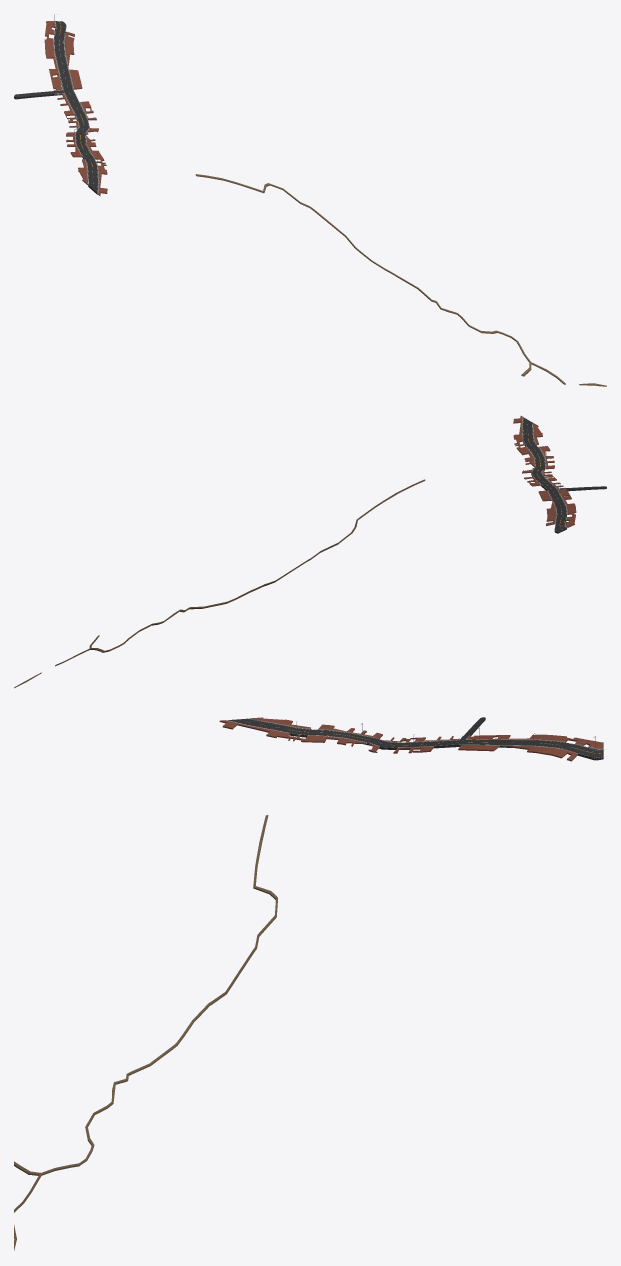
The picture shows the model from 3 angles, top to bottom: view 1: azimuth 30°, elevation 25°; view 2: azimuth 210°, elevation 25°; view 3: azimuth 270°, elevation 25°; orthographic projection. The views are drawn at different scales.
Size of the model in its own units: 293 by 181 by 293.
